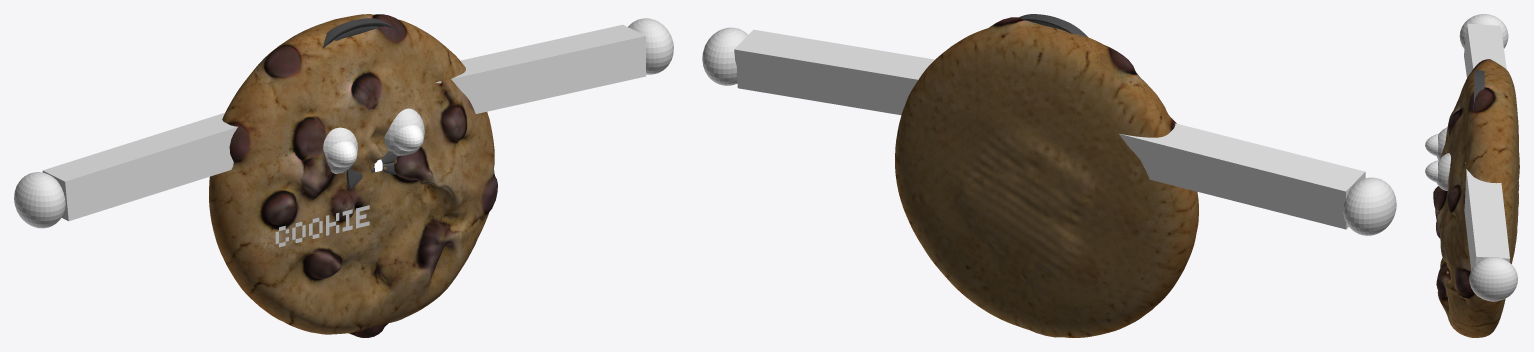
The model's file is Cookie-Rig.glb.
3 views of the same model, side by side, from view 1: azimuth 30°, elevation 25°; view 2: azimuth 150°, elevation 25°; view 3: azimuth 270°, elevation 25° (orthographic). The views are drawn at different scales.
Visible parts, largest first — view 1: mesh, Cube, Cube.001, Sphere.001, Sphere.002, NameTagGorilla, Headphones_Highres, Sphere.006, Sphere.005, Sphere.003, Sphere.004, BowTie_Highres; view 2: mesh, Cube.001, Cube, Sphere.001, Sphere.002, Headphones_Highres; view 3: mesh, Cube, Sphere.002, Cube.001, Sphere.001, Sphere.006, Headphones_Highres, Sphere.003, Sphere.004, Sphere.005.
Boxes of the visible parts, <box> form: mesh: <box>209,14,497,337</box>; Cube: <box>435,24,646,113</box>; Cube.001: <box>42,113,237,221</box>; Sphere.001: <box>14,172,65,228</box>; Sphere.002: <box>628,18,673,74</box>; NameTagGorilla: <box>275,205,369,247</box>; Headphones_Highres: <box>322,18,402,48</box>; Sphere.006: <box>384,108,424,155</box>; Sphere.005: <box>323,127,357,173</box>; Sphere.003: <box>327,141,357,167</box>; Sphere.004: <box>394,125,423,151</box>; BowTie_Highres: <box>346,151,397,189</box>; mesh: <box>895,17,1198,337</box>; Cube.001: <box>1119,123,1365,229</box>; Cube: <box>734,29,934,115</box>; Sphere.001: <box>1343,177,1396,235</box>; Sphere.002: <box>702,27,747,85</box>; Headphones_Highres: <box>1019,14,1088,37</box>; mesh: <box>1433,59,1519,337</box>; Cube: <box>1464,162,1509,270</box>; Sphere.002: <box>1469,257,1517,301</box>; Cube.001: <box>1464,23,1506,77</box>; Sphere.001: <box>1459,14,1508,48</box>; Sphere.006: <box>1436,153,1450,190</box>; Headphones_Highres: <box>1473,70,1484,109</box>; Sphere.003: <box>1425,134,1438,155</box>; Sphere.004: <box>1425,160,1438,182</box>; Sphere.005: <box>1436,127,1447,159</box>.
Size of the model in its own units: 2.02 by 0.9141 by 0.312.
6 materials, 1 textured.
